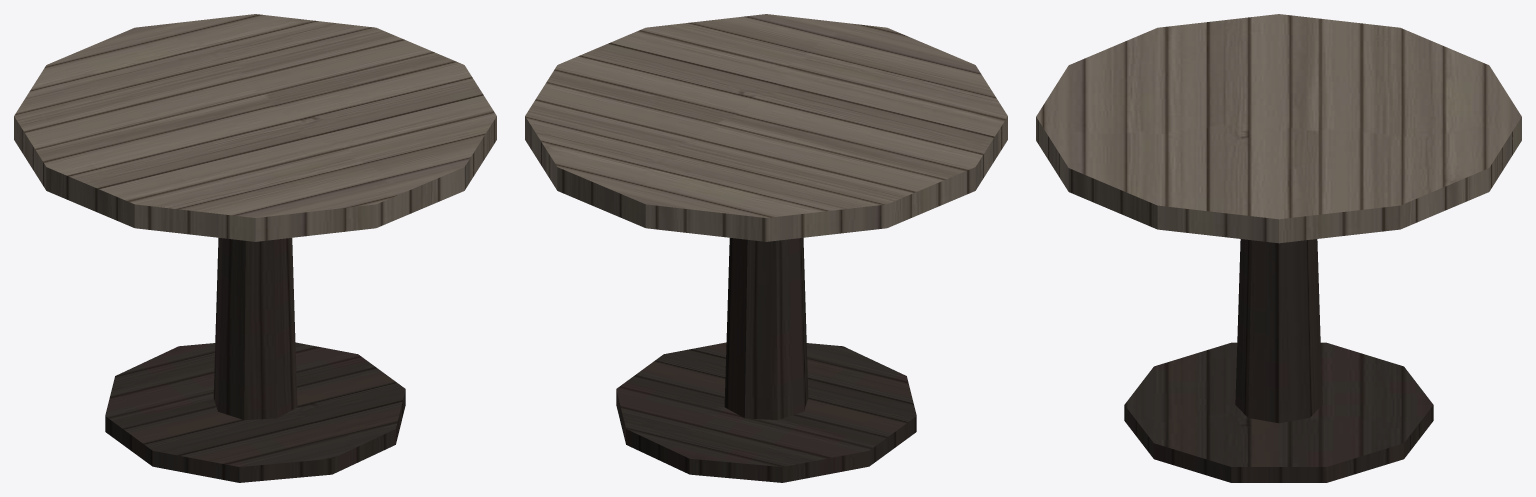
The model's file is table_round_01.glb.
3 views of the same model, side by side, from view 1: azimuth 30°, elevation 25°; view 2: azimuth 150°, elevation 25°; view 3: azimuth 270°, elevation 25° (orthographic).
Visible parts, largest first — view 1: table_round_01; view 2: table_round_01; view 3: table_round_01.
Part boxes in pixels (x1,y1,x2,y2): table_round_01: (14,14,496,482); table_round_01: (525,14,1007,482); table_round_01: (1036,14,1521,482).
Size of the model in its own units: 1.1 by 0.76 by 1.1.
Materials: 2 (2 with a texture image).
